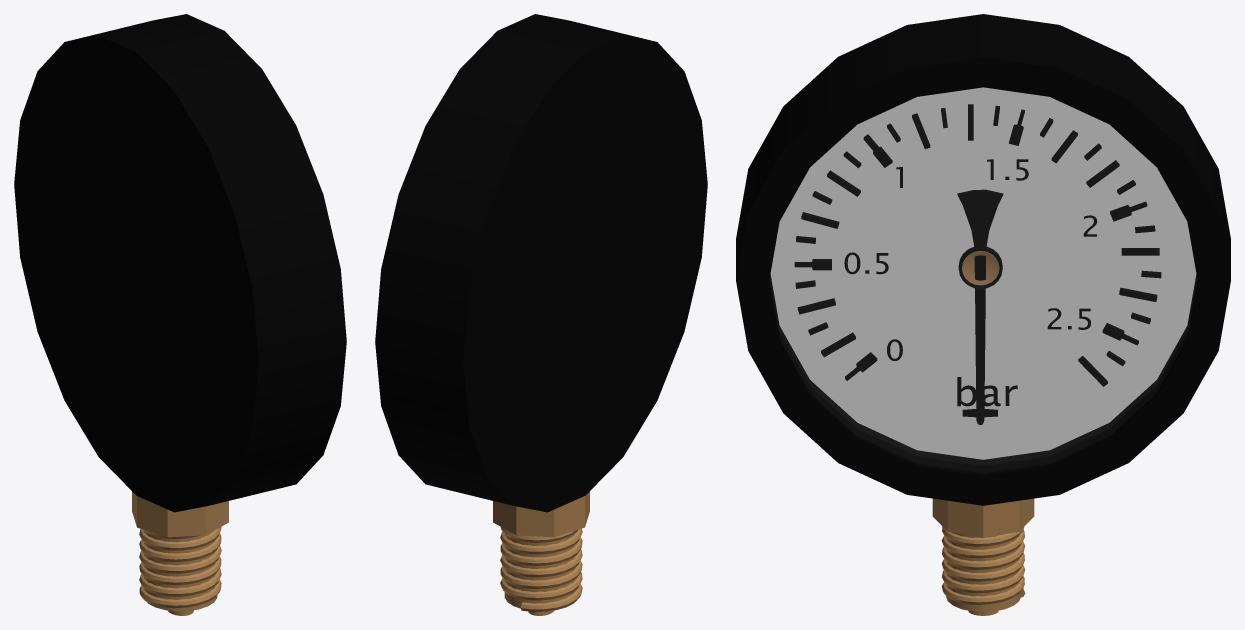
File: BarMeter.fbx
3 renders of one model, left to right at view 1: azimuth 30°, elevation 25°; view 2: azimuth 150°, elevation 25°; view 3: azimuth 270°, elevation 25°, orthographic.
Visible parts, largest first — view 1: pCylinder3, pHelix1, pCylinder7, pCylinder8; view 2: pCylinder3, pHelix1, pCylinder7, pCylinder8; view 3: pCylinder4, pCylinder3, pHelix1, pointer1, pCylinder7, pCylinder8, pCylinder10.
Part boxes in pixels (left/top/right/bottom): pCylinder3: left=14, top=14, right=346, bottom=512; pHelix1: left=139, top=526, right=221, bottom=608; pCylinder7: left=132, top=491, right=228, bottom=537; pCylinder8: left=144, top=530, right=217, bottom=611; pCylinder3: left=375, top=14, right=707, bottom=512; pHelix1: left=500, top=527, right=582, bottom=611; pCylinder7: left=493, top=491, right=589, bottom=537; pCylinder8: left=504, top=530, right=577, bottom=610; pCylinder4: left=770, top=87, right=1196, bottom=459; pCylinder3: left=736, top=14, right=1230, bottom=505; pHelix1: left=941, top=526, right=1025, bottom=604; pointer1: left=957, top=189, right=1003, bottom=424; pCylinder7: left=932, top=498, right=1034, bottom=537; pCylinder8: left=946, top=532, right=1020, bottom=611; pCylinder10: left=962, top=251, right=999, bottom=285.
Size of the model in its own units: 0.416 by 2.56 by 2.
